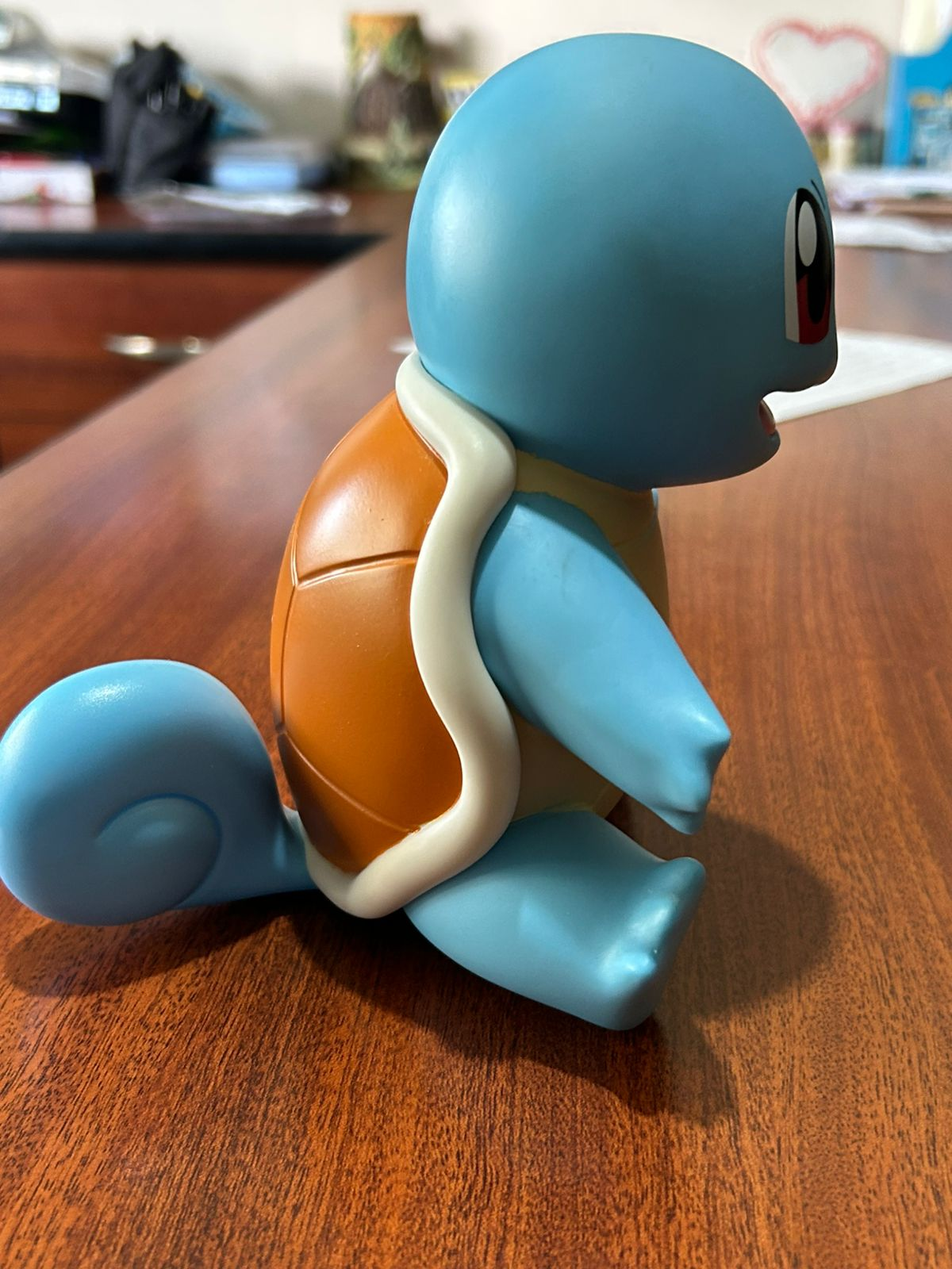Squirtle: (0, 35, 835, 1026)
